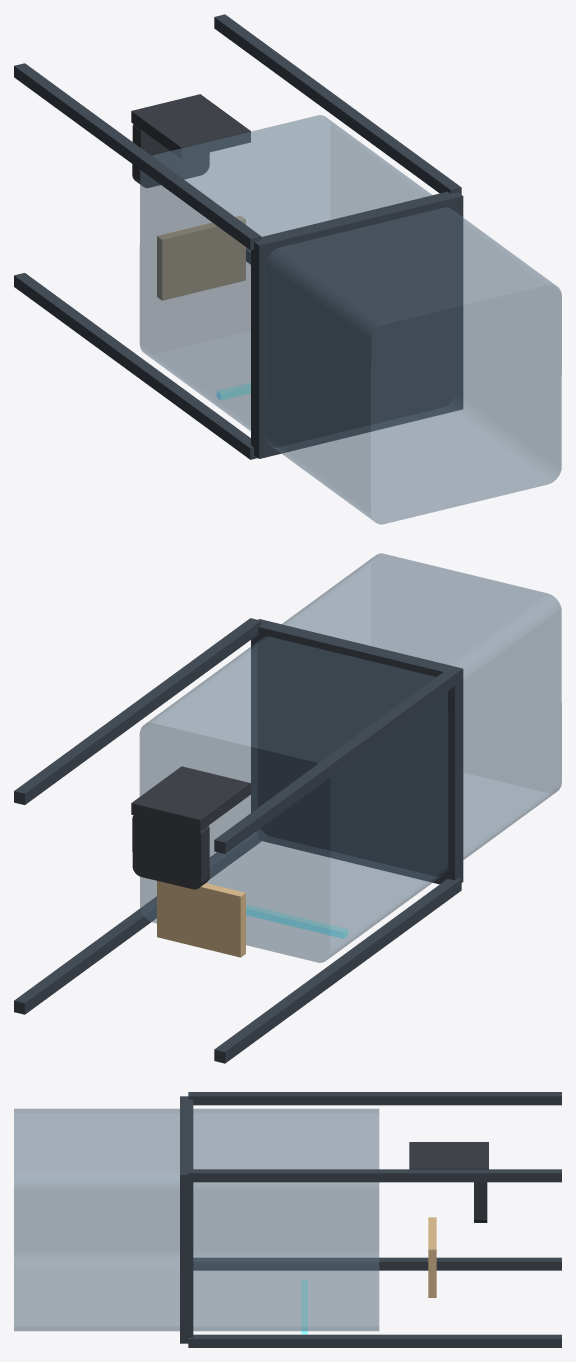
File: PHONEBOOTH_1P_GLASS_001.glb
3 views of the same model, one above another, from view 1: azimuth 30°, elevation 25°; view 2: azimuth 150°, elevation 25°; view 3: azimuth 270°, elevation 25° (orthographic). The views are drawn at different scales.
Visible parts, largest first — view 1: glass_body_000, roof_005, black_frame_002, tiny_desk_006, black_frame_004, black_frame_001, back_008, seat_007; view 2: glass_body_000, roof_005, black_frame_002, tiny_desk_006, black_frame_004, black_frame_001, back_008, seat_007, black_frame_003, available_light_009; view 3: glass_body_000, black_frame_004, black_frame_003, black_frame_002, black_frame_001, roof_005, back_008, tiny_desk_006, seat_007, available_light_009.
Boxes of the visible parts, <box> form: glass_body_000: <box>139,115,561,524</box>; roof_005: <box>251,191,463,458</box>; black_frame_002: <box>14,63,261,250</box>; tiny_desk_006: <box>157,215,245,300</box>; black_frame_004: <box>214,14,461,194</box>; black_frame_001: <box>14,273,257,459</box>; back_008: <box>131,94,250,158</box>; seat_007: <box>132,124,209,188</box>; glass_body_000: <box>139,553,561,962</box>; roof_005: <box>251,619,463,884</box>; black_frame_002: <box>214,667,461,853</box>; tiny_desk_006: <box>157,881,245,957</box>; black_frame_004: <box>14,618,261,804</box>; black_frame_001: <box>214,878,461,1063</box>; back_008: <box>131,766,250,831</box>; seat_007: <box>132,815,209,889</box>; black_frame_003: <box>14,832,261,1014</box>; available_light_009: <box>246,904,348,938</box>; glass_body_000: <box>14,1108,379,1331</box>; black_frame_004: <box>188,1169,561,1182</box>; black_frame_003: <box>188,1334,561,1347</box>; black_frame_002: <box>188,1092,561,1105</box>; black_frame_001: <box>193,1257,561,1270</box>; roof_005: <box>180,1096,193,1343</box>; back_008: <box>409,1142,488,1169</box>; tiny_desk_006: <box>428,1217,436,1297</box>; seat_007: <box>474,1182,487,1222</box>; available_light_009: <box>301,1280,307,1334</box>.
Bounding box in the file's own units: 1.16 × 1.18 × 3.3.
